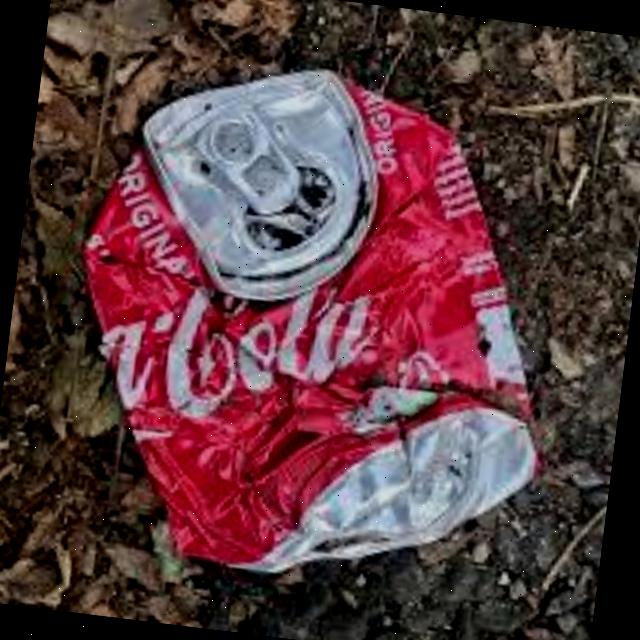trash: (44, 36, 586, 606), (120, 44, 392, 312)
